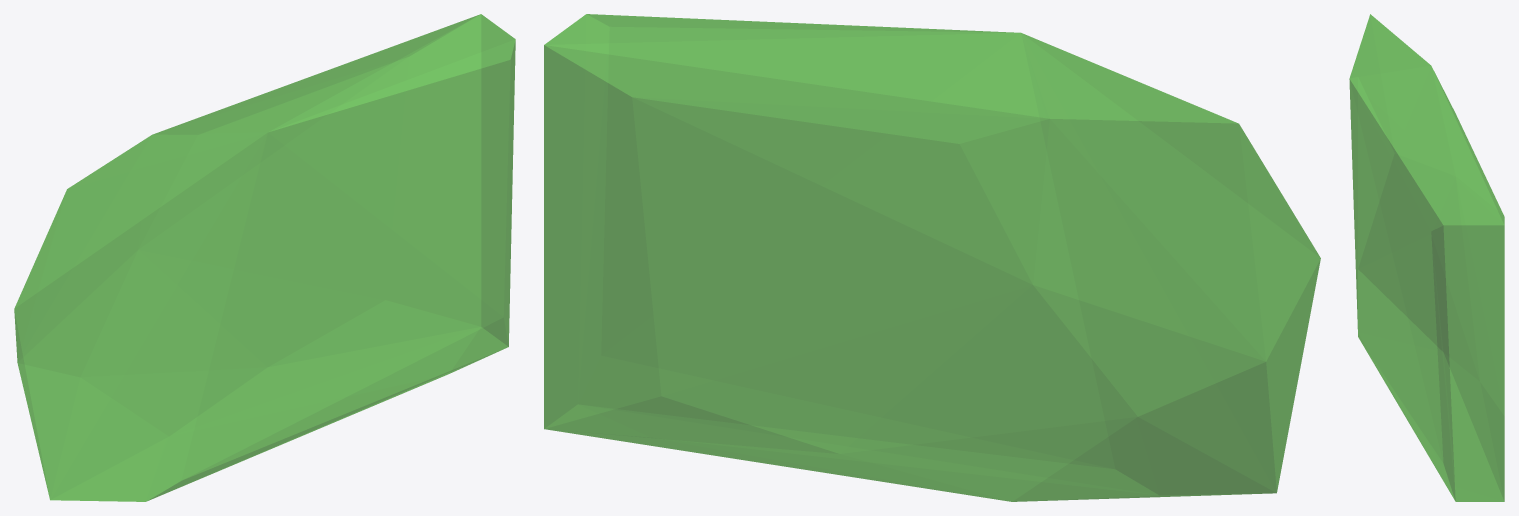
The picture shows the model from 3 angles, left to right: view 1: azimuth 30°, elevation 25°; view 2: azimuth 150°, elevation 25°; view 3: azimuth 270°, elevation 25°; orthographic projection. The views are drawn at different scales.
Visible parts, largest first — view 1: Shape_IndexedFaceSet.014_Shape_IndexedFaceSet.11158; view 2: Shape_IndexedFaceSet.014_Shape_IndexedFaceSet.11158; view 3: Shape_IndexedFaceSet.014_Shape_IndexedFaceSet.11158.
Part boxes in pixels (x1,y1,x2,y2): Shape_IndexedFaceSet.014_Shape_IndexedFaceSet.11158: (14,14,515,501); Shape_IndexedFaceSet.014_Shape_IndexedFaceSet.11158: (544,14,1320,501); Shape_IndexedFaceSet.014_Shape_IndexedFaceSet.11158: (1349,14,1504,501).
Bounding box in the file's own units: 0.151 × 0.0904 × 0.0417.
